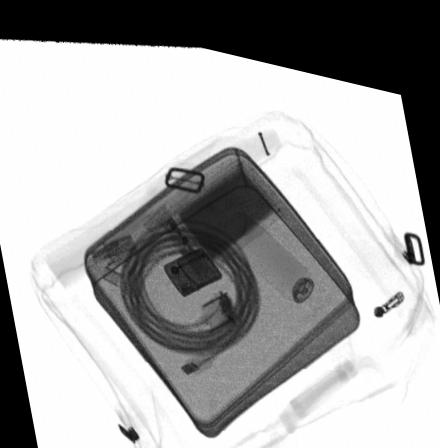Lighter: (162, 237, 222, 289)
Powerbank: (173, 153, 284, 258)
Sprayer: (217, 199, 327, 302)
